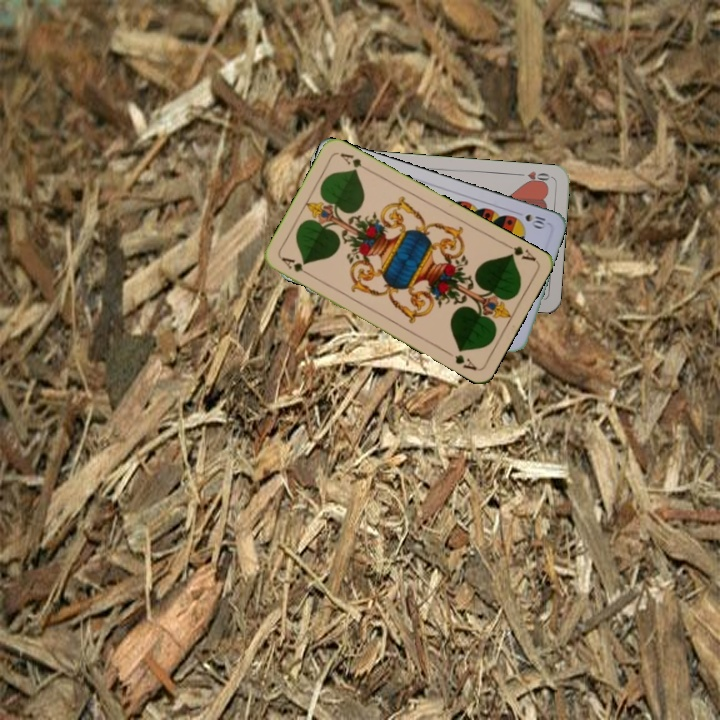GA: (500, 239, 539, 264), (278, 253, 314, 279)
HO: (513, 167, 554, 187)
S10: (511, 207, 550, 232)
